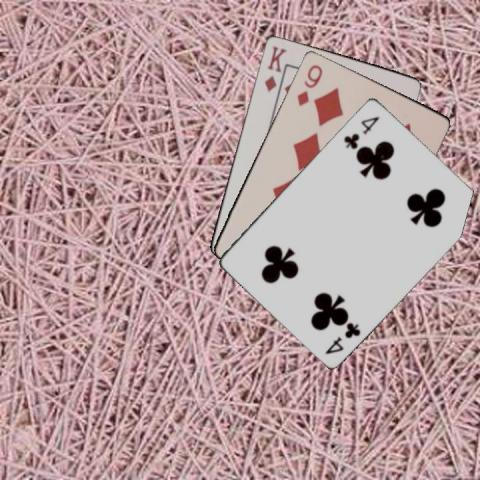4c: (341, 113, 380, 150), (322, 319, 362, 355)
9d: (293, 61, 324, 107)
Kd: (261, 42, 288, 92)
